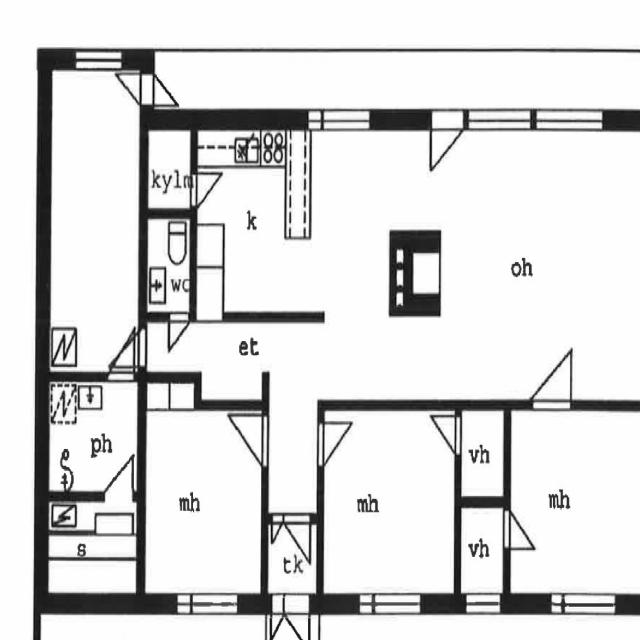door: (532, 338, 571, 410), (431, 108, 463, 181), (228, 415, 269, 465), (105, 448, 133, 502), (318, 422, 352, 466), (284, 512, 310, 566), (429, 416, 462, 455), (109, 332, 134, 382), (503, 510, 535, 549), (284, 593, 309, 640), (119, 73, 154, 105), (116, 331, 148, 366), (140, 73, 174, 105), (190, 172, 219, 207), (170, 312, 188, 352), (271, 594, 283, 634), (272, 512, 282, 541)
